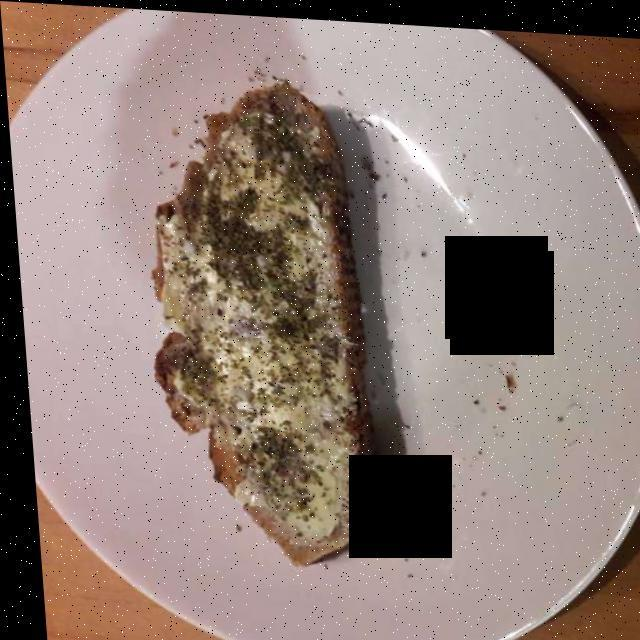bread: (141, 83, 373, 567)
butter: (169, 98, 338, 531)
